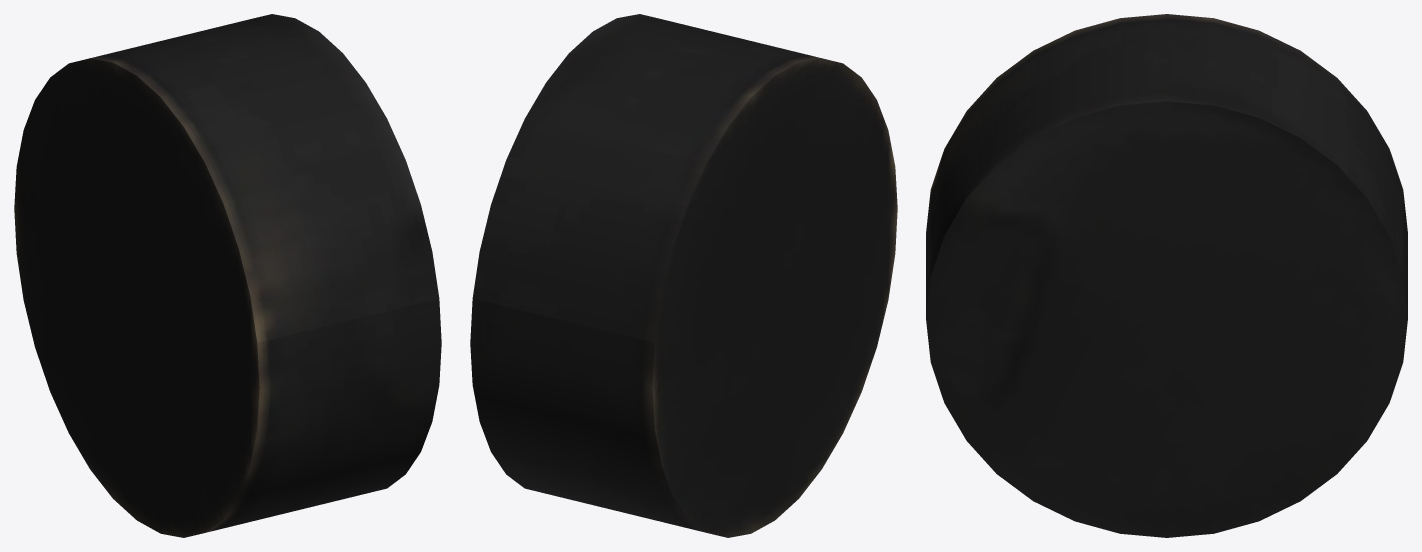
The model's file is pull_handle__handle_hub.glb.
3 views of the same model, side by side, from view 1: azimuth 30°, elevation 25°; view 2: azimuth 150°, elevation 25°; view 3: azimuth 270°, elevation 25° (orthographic).
Visible parts, largest first — view 1: world; view 2: world; view 3: world.
Boxes of the visible parts, x1,y1,x2,y2 form: world: (14,14,441,537); world: (470,14,897,537); world: (926,14,1407,537).
Bounding box in the file's own units: 0.03 × 0.07 × 0.07.
1 material, 1 textured.
